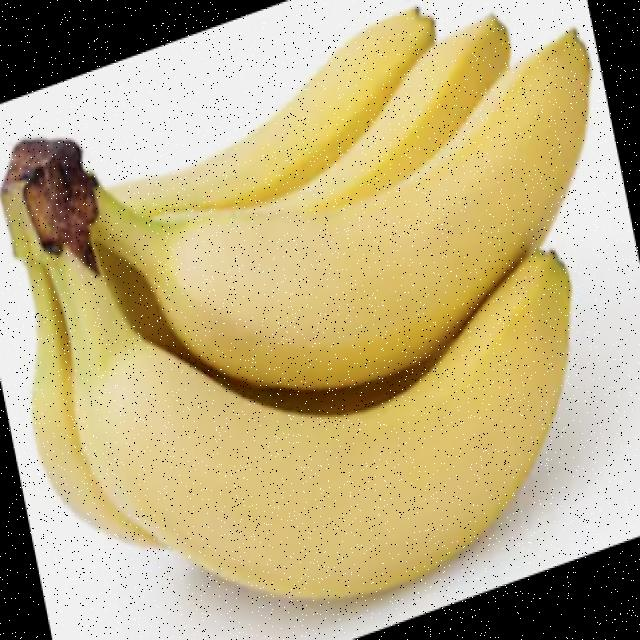god quality banana: (1, 9, 592, 599)
